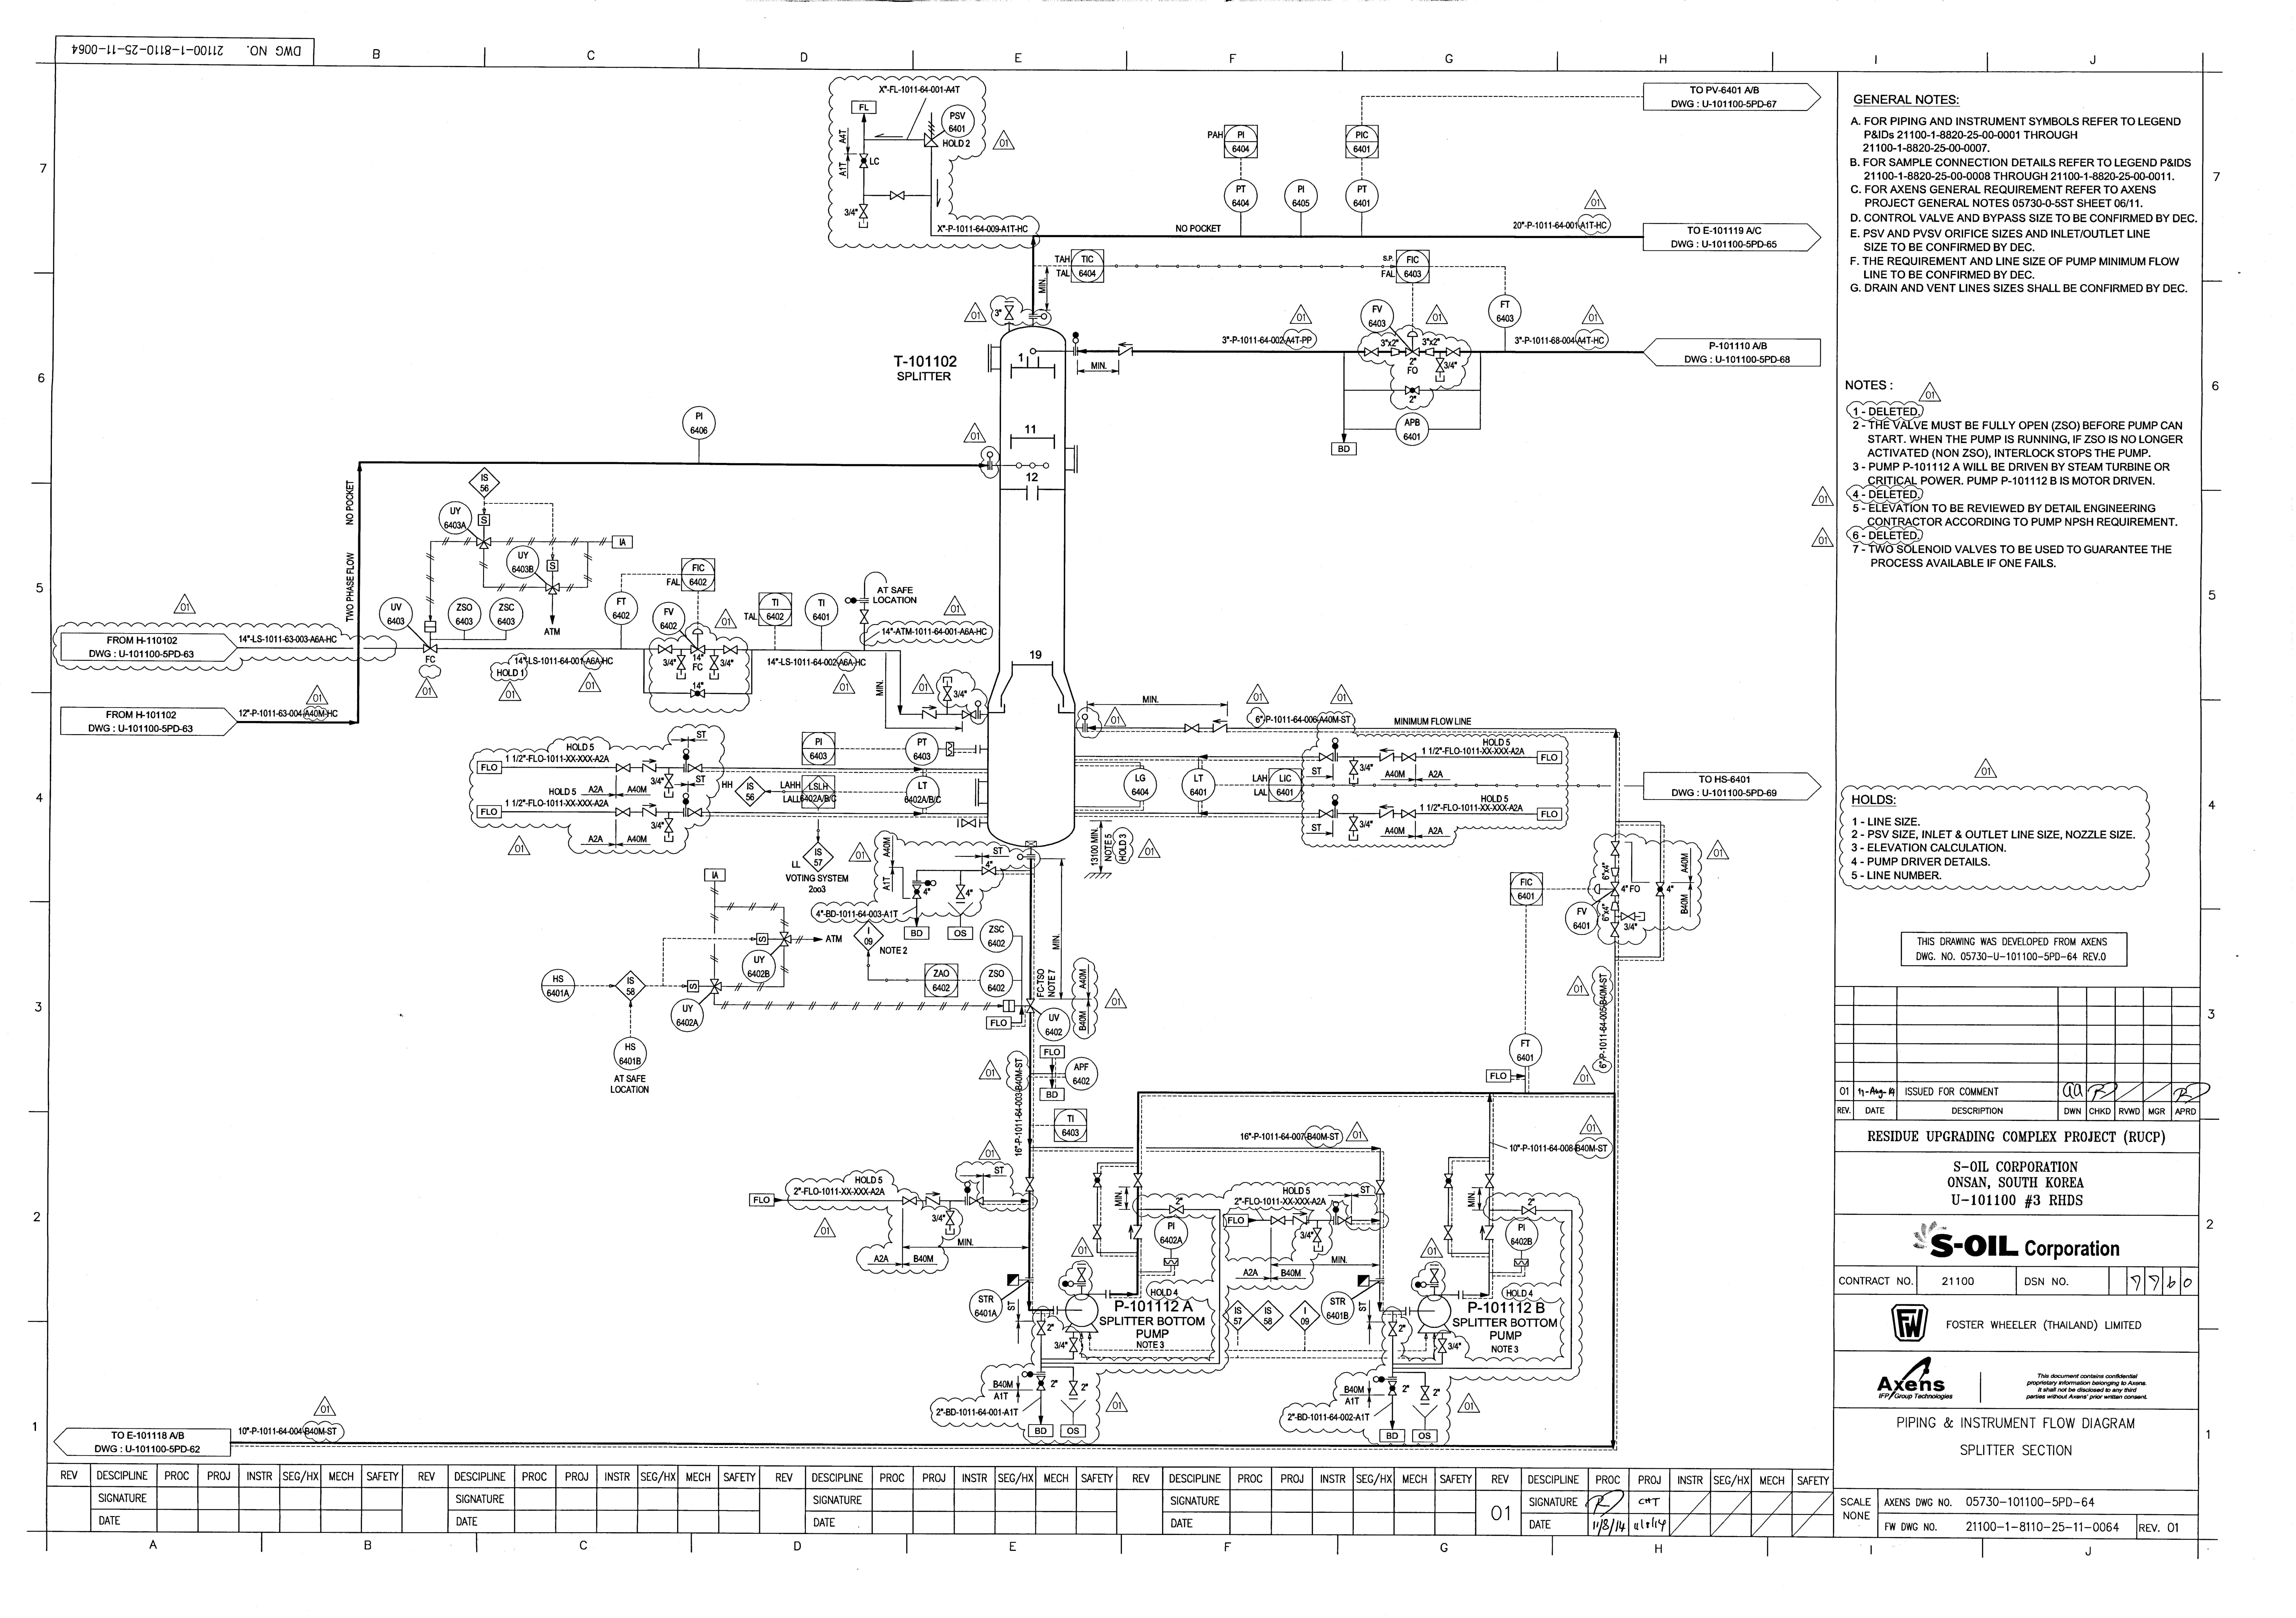NAS: (1063, 1326, 1082, 1341)
butterfly0: (1403, 383, 1420, 396), (688, 688, 706, 699)
butterfly90: (858, 152, 869, 170), (1443, 1173, 1454, 1191), (1387, 1380, 1398, 1397), (1093, 1171, 1103, 1189), (912, 884, 923, 900), (1037, 1375, 1046, 1392)
reduce0: (1389, 347, 1401, 357)
reduce180: (1424, 347, 1436, 357)
reduce270: (1609, 867, 1620, 877)
reduce90: (1609, 902, 1620, 912)
valvecontrol180: (1594, 881, 1620, 898)
valvecontrol90: (1405, 329, 1420, 357), (690, 629, 706, 655)
